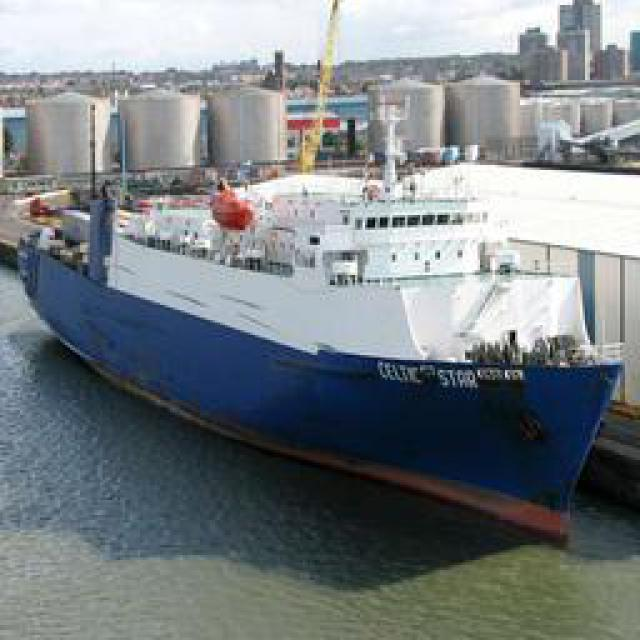Ship: (11, 160, 636, 565)
